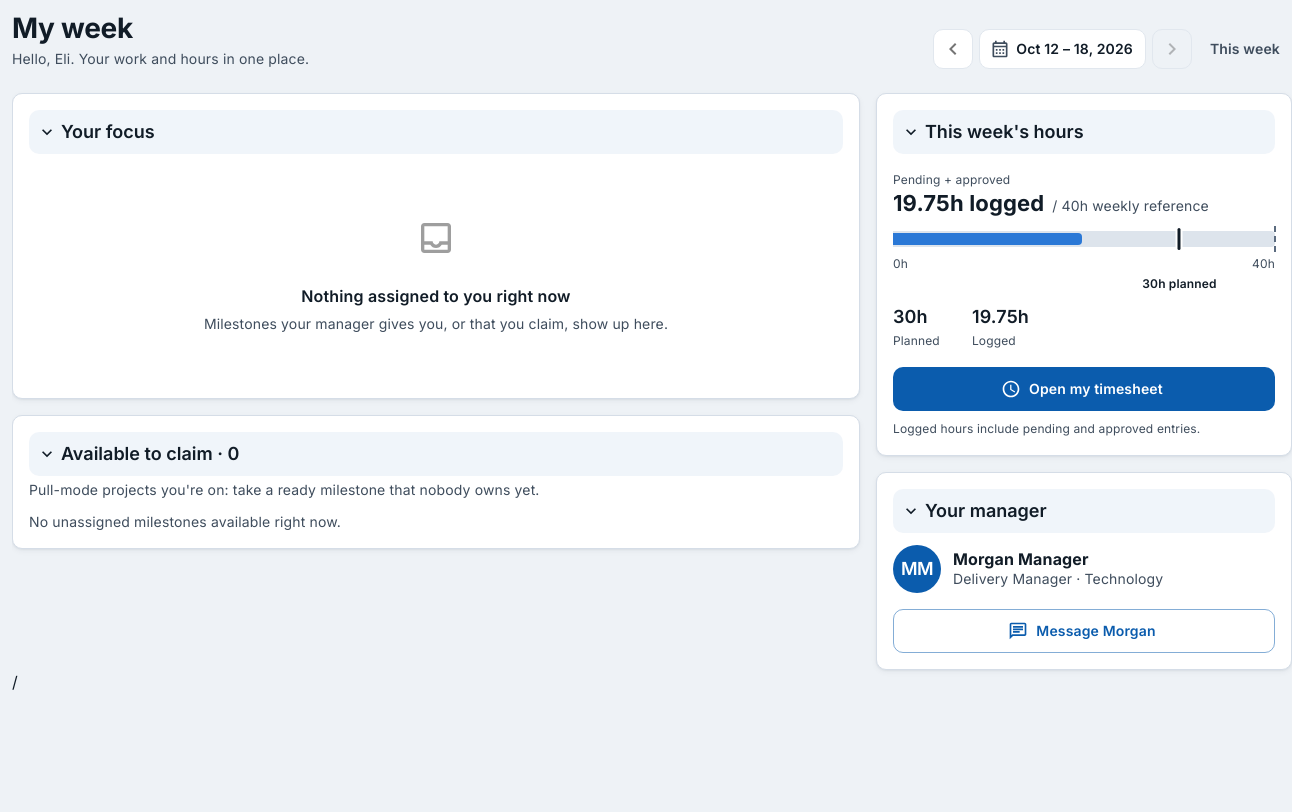
Test: This week's hours › it collapses and remembers under week
The width and height of the screenshot is (1292, 812).
Step 1. Click the button "This week's hours" → click(1084, 132), box [893, 110, 1275, 154]
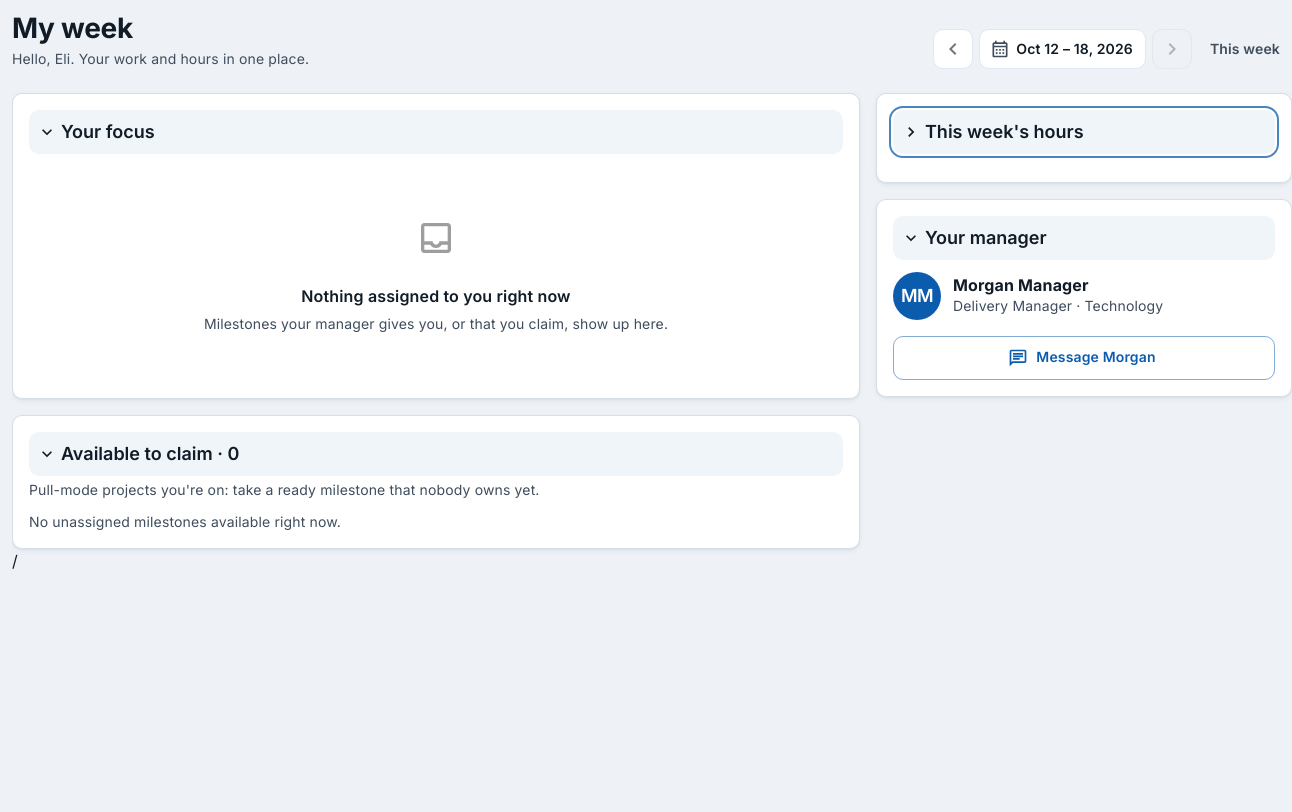
Check: the button "This week's hours" is collapsed, box [893, 110, 1275, 154]
